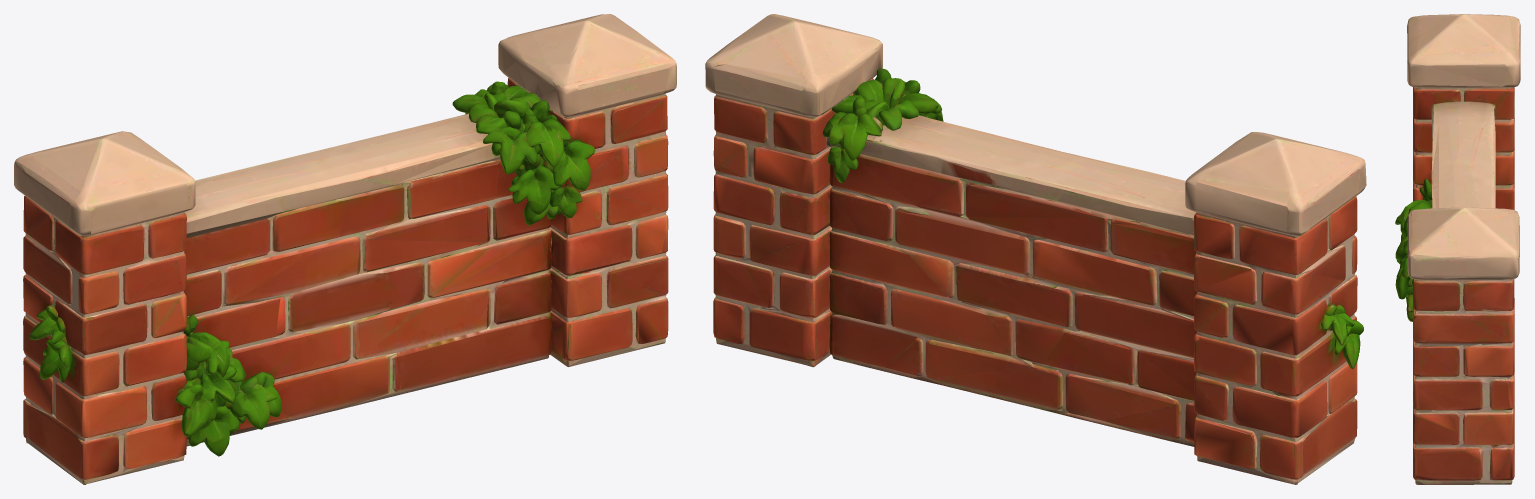
The model's file is upm_mu5vzkoy6i9.glb.
3 renders of one model, left to right at view 1: azimuth 30°, elevation 25°; view 2: azimuth 150°, elevation 25°; view 3: azimuth 270°, elevation 25°, orthographic. The views are drawn at different scales.
Size of the model in its own units: 1.9 by 0.9476 by 0.4114.
1 material, 1 textured.
